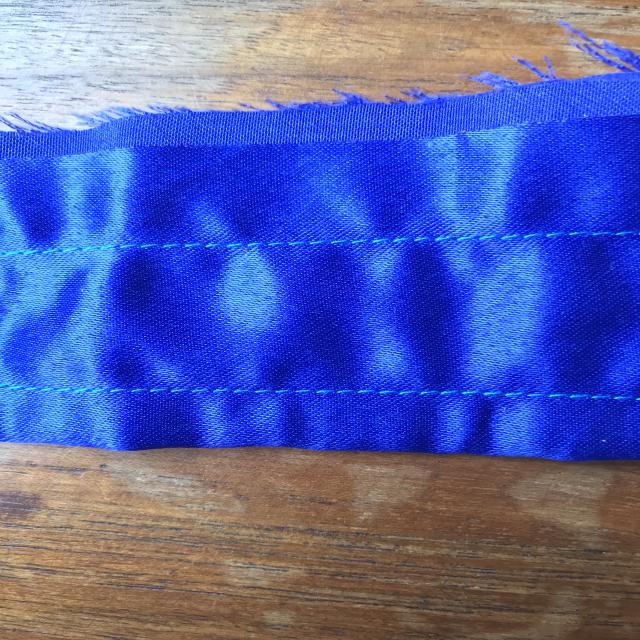good: (239, 379, 490, 416), (205, 234, 290, 258)
